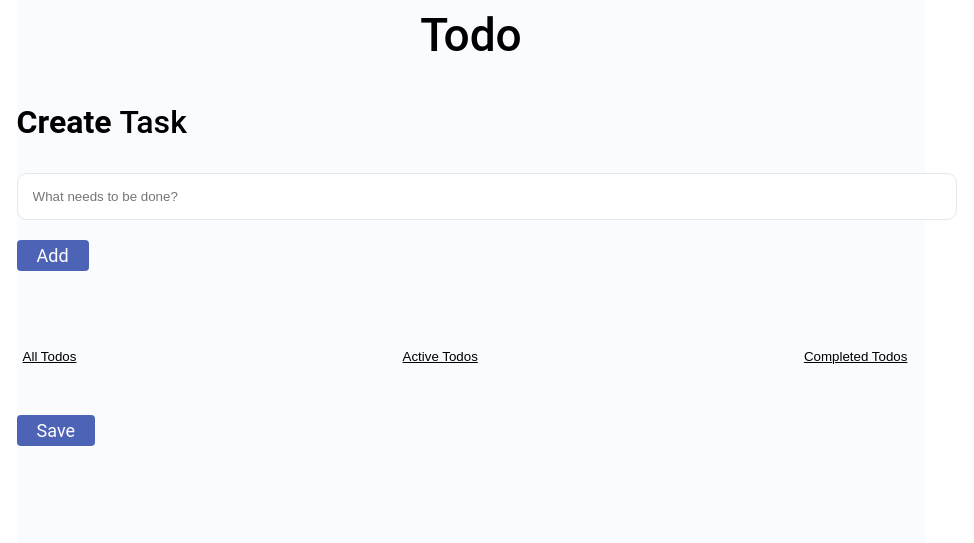
Test: Todo Component › should add a new task when clicking "Add" button
The image size is (974, 543).
Step 1. Type "Test Task" into the field with placeholder "What needs to be done?" → (487, 196), box [17,173,957,220]
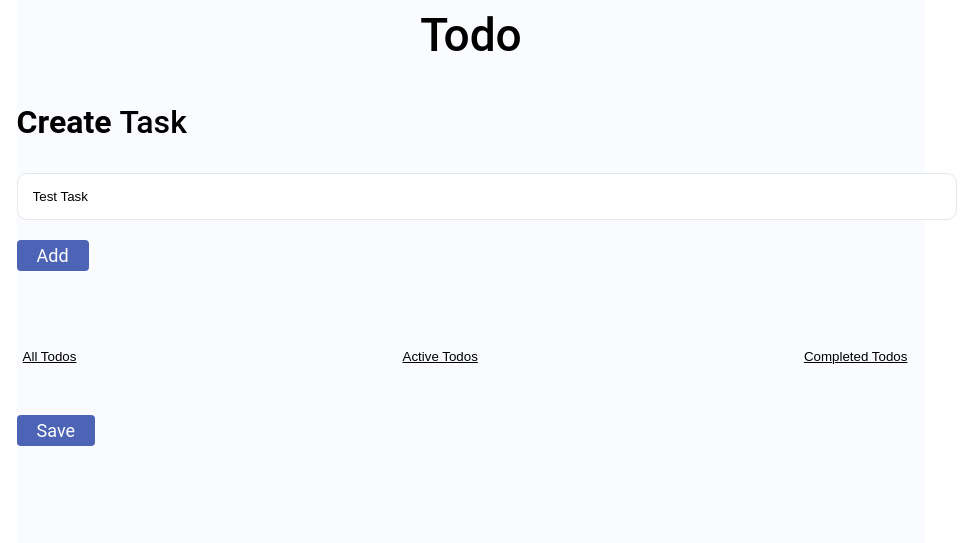
Step 2. Click the button "Add" → (53, 255), box [17,240,89,271]
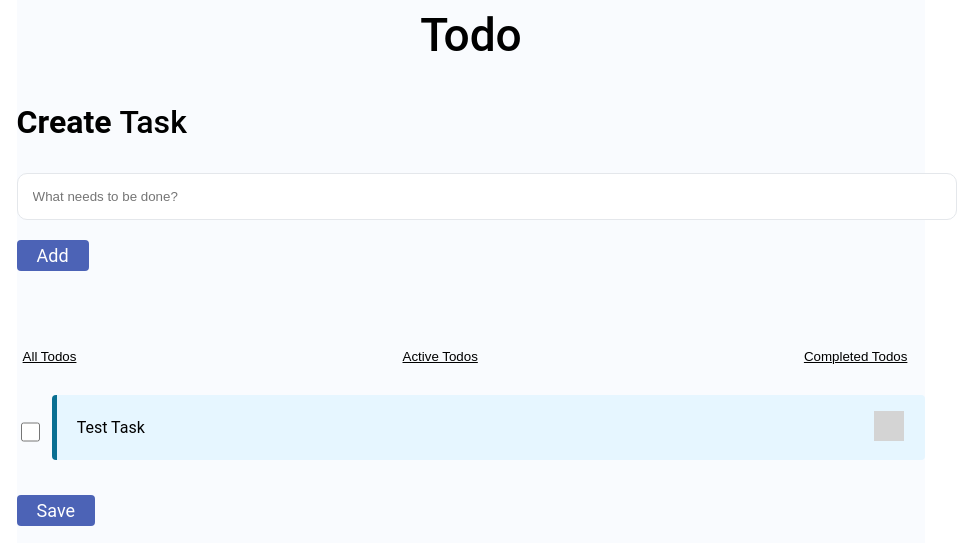
Expected: the text "Test Task" is shown, [77,418,145,437]
